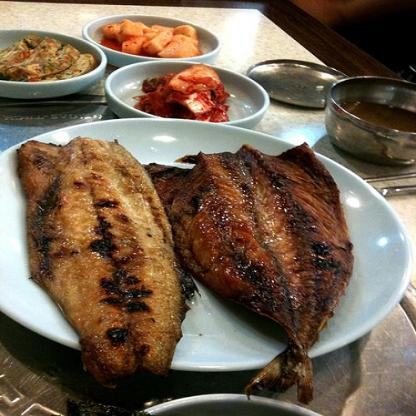Peixe: (144, 142, 368, 402), (11, 131, 207, 392)
